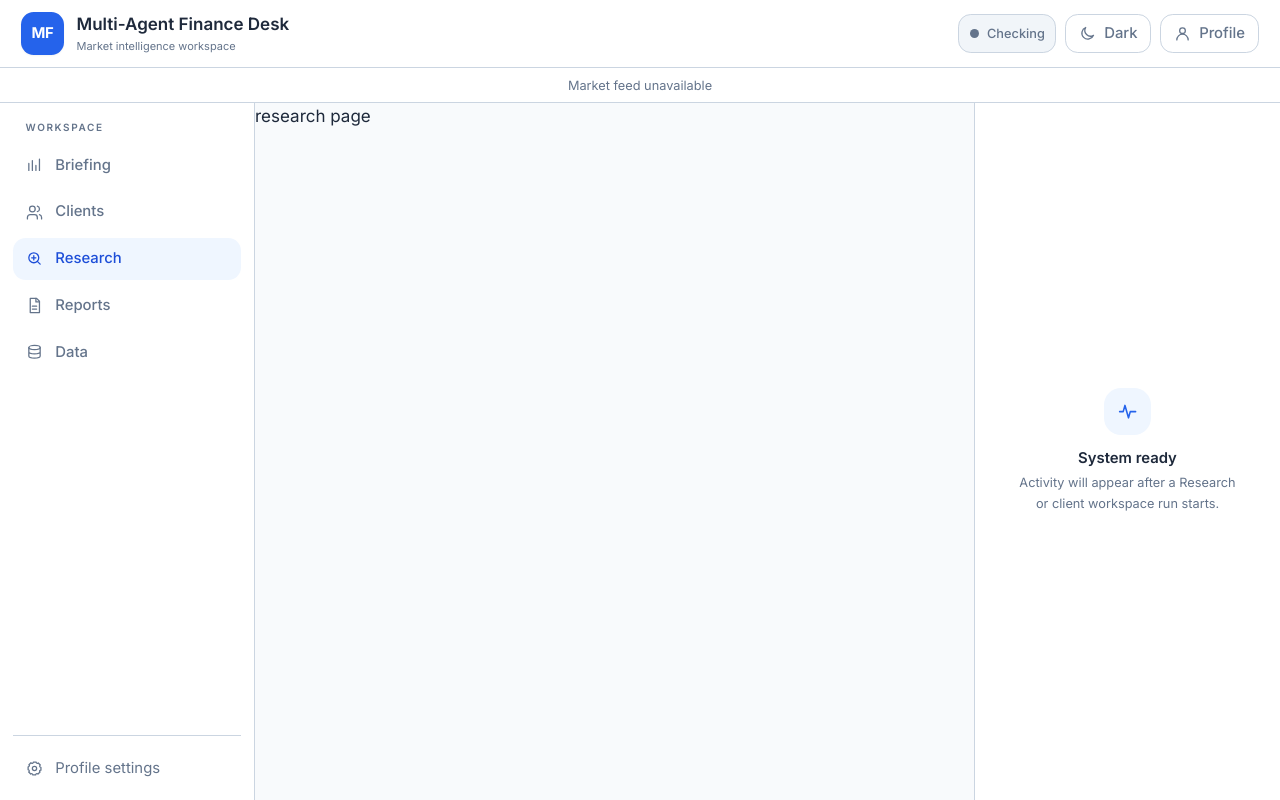
Test: AppLayout › opens the profile preview from the header
Click the button "Profile" at (1209, 34), box [1160,14,1259,53]
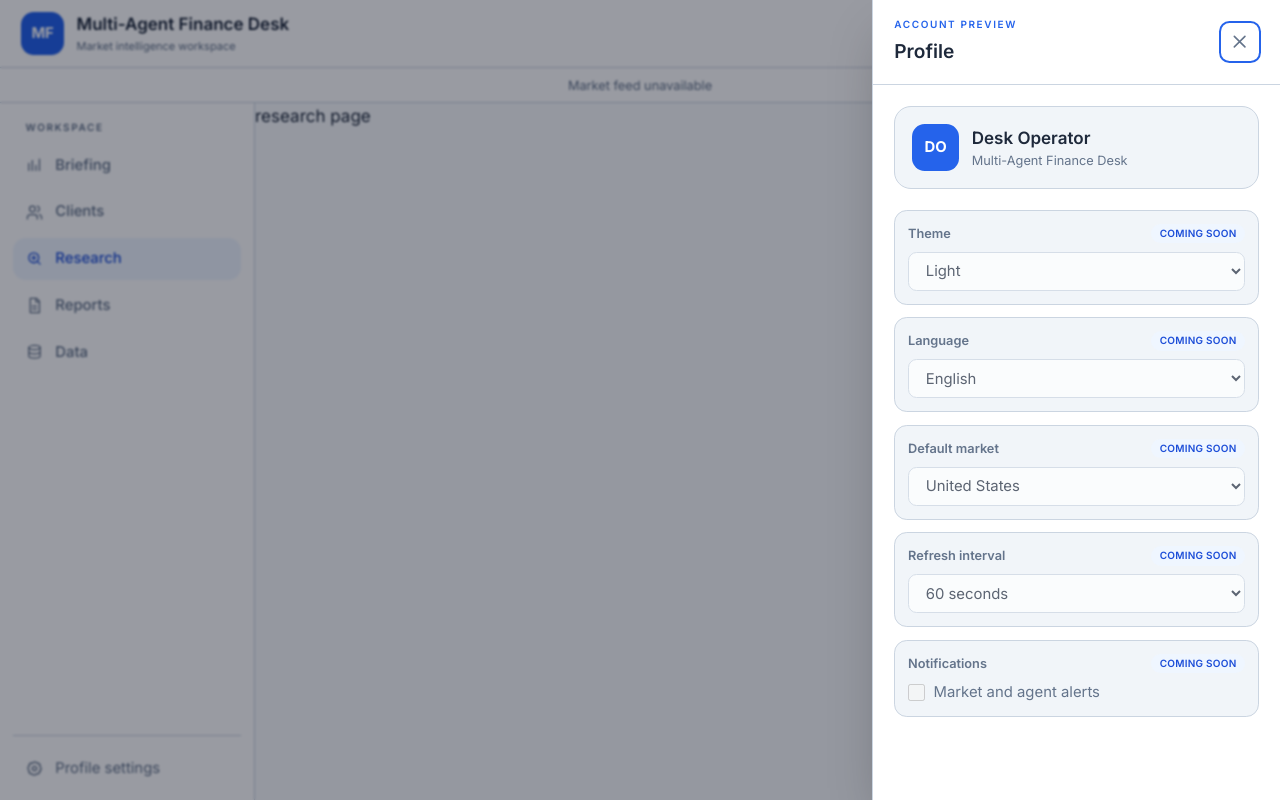
Result: the dialog "Profile" is shown at [872,0,1279,799]
Result: the text "Desk Operator" is shown at [972,128,1090,148]
